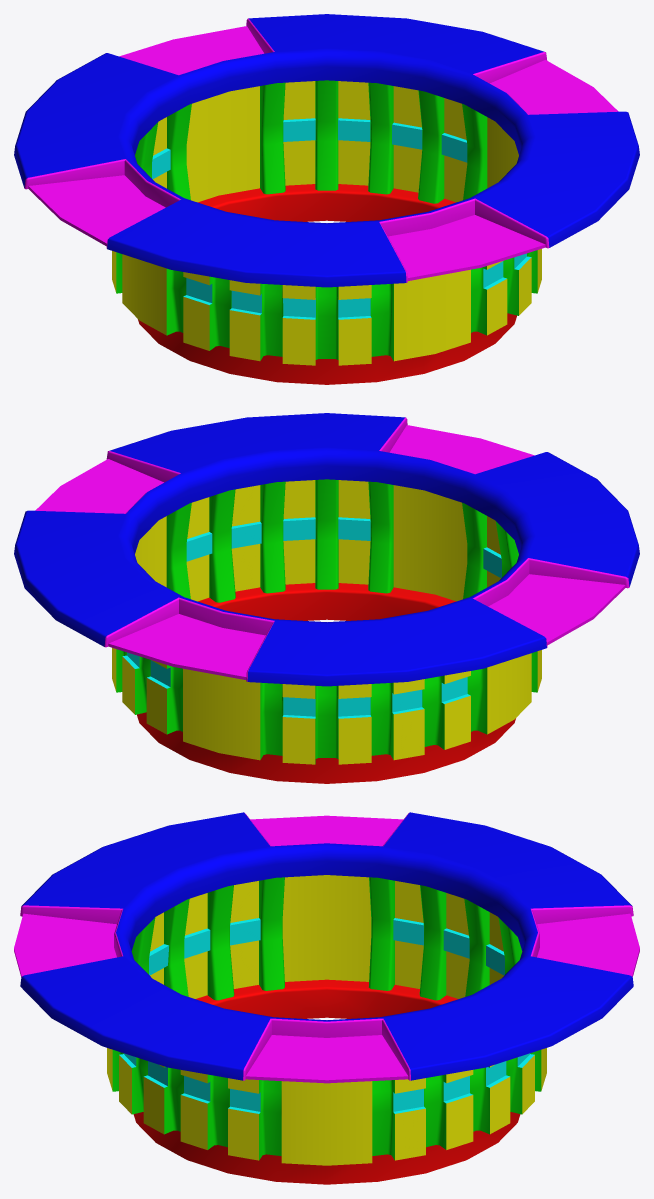
Rendered from Tunnel_Lift_P1.fbx.
The picture shows the model from 3 angles, top to bottom: view 1: azimuth 30°, elevation 25°; view 2: azimuth 150°, elevation 25°; view 3: azimuth 270°, elevation 25°; orthographic projection.
Visible parts, largest first — view 1: Tunnel_Lift_P1; view 2: Tunnel_Lift_P1; view 3: Tunnel_Lift_P1.
Boxes of the visible parts, bbox=[...] form: Tunnel_Lift_P1: bbox=[14, 14, 639, 384]; Tunnel_Lift_P1: bbox=[14, 413, 639, 783]; Tunnel_Lift_P1: bbox=[14, 812, 639, 1184].
Bounding box in the file's own units: 2014 × 600 × 2014.
